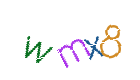8: (59, 0, 139, 80)
M: (29, 0, 109, 80)
W: (14, 0, 94, 80)
X: (35, 0, 115, 80)
